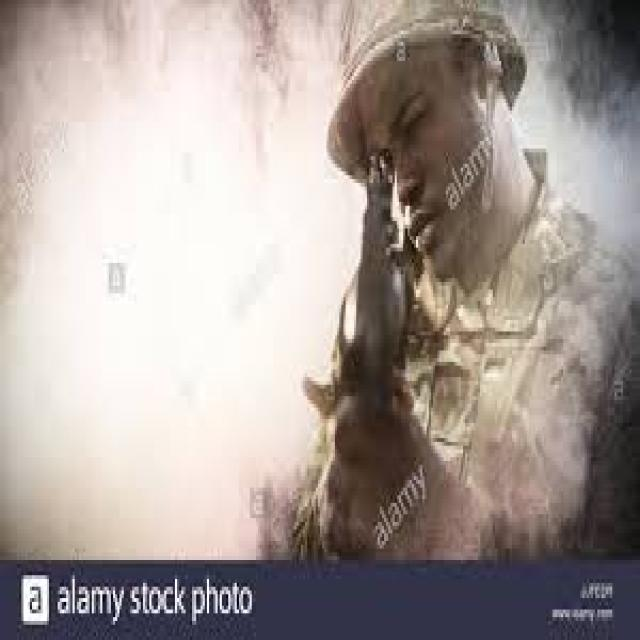soldier: (316, 8, 605, 548)
